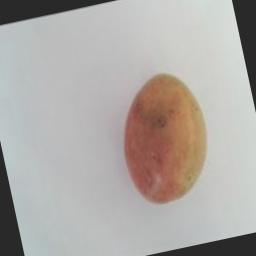Mango Unripe: (100, 47, 226, 213)
